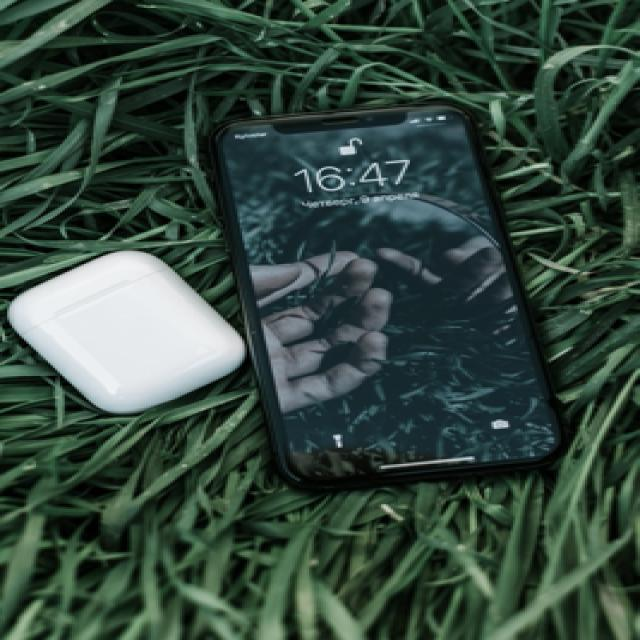cellphone: (206, 102, 566, 492)
